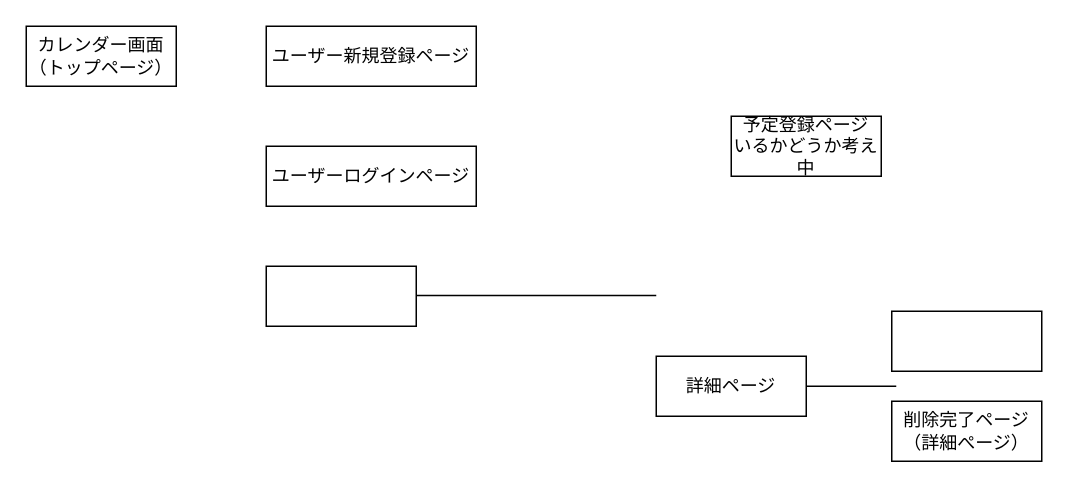
The diagram is 1068 pixels wide and 488 high, and some of its shapes have lost their labels. The centre of each missing label's shape, as x and y in pixels:
"一覧ページ" belongs at (x=340, y=295).
"編集画面" belongs at (x=966, y=340).
